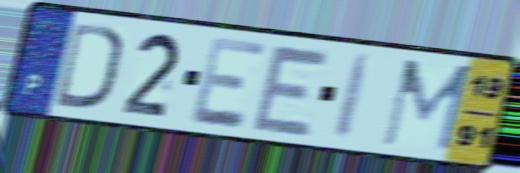2: (121, 30, 181, 119)
D: (52, 19, 125, 113)
E: (248, 40, 335, 140), (188, 34, 271, 132)
I: (330, 51, 377, 144)
M: (377, 57, 476, 155)
